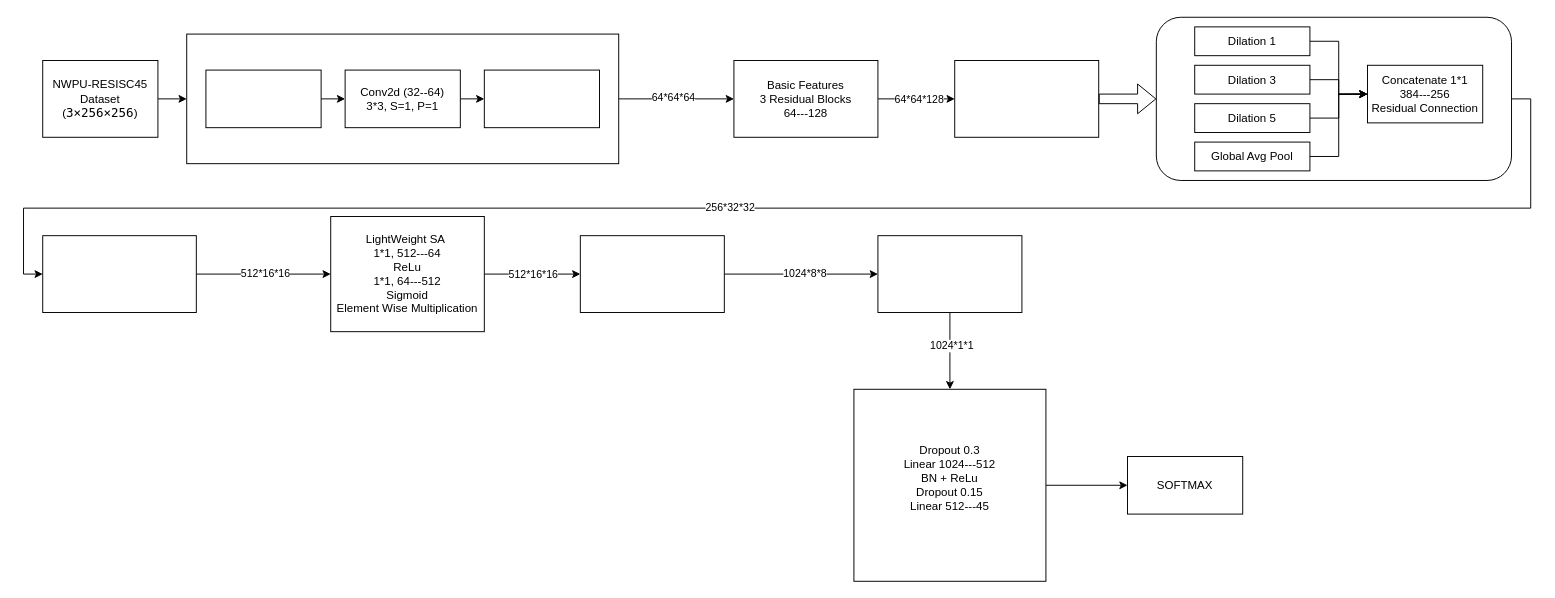
This 1555x598 diagram has some shape labels left out. The box of each missing label's shape, as (x1, y1, x2, y2) in pixels:
4 Residual Blocks with SE Attention 128---256: (954, 60, 1099, 137)
6 Residual Blocks with CBAM Attention 256---512: (42, 235, 196, 312)
Conv2d (3--32) 3*3, S=2, P=1: (205, 69, 321, 128)
Final Features 3 Residual Blocks 512---1024: (579, 235, 724, 312)
Global Avg Pool Flattening: (877, 235, 1022, 312)
MaxPool2d 3*3, S=2, P=1: (483, 69, 600, 128)
